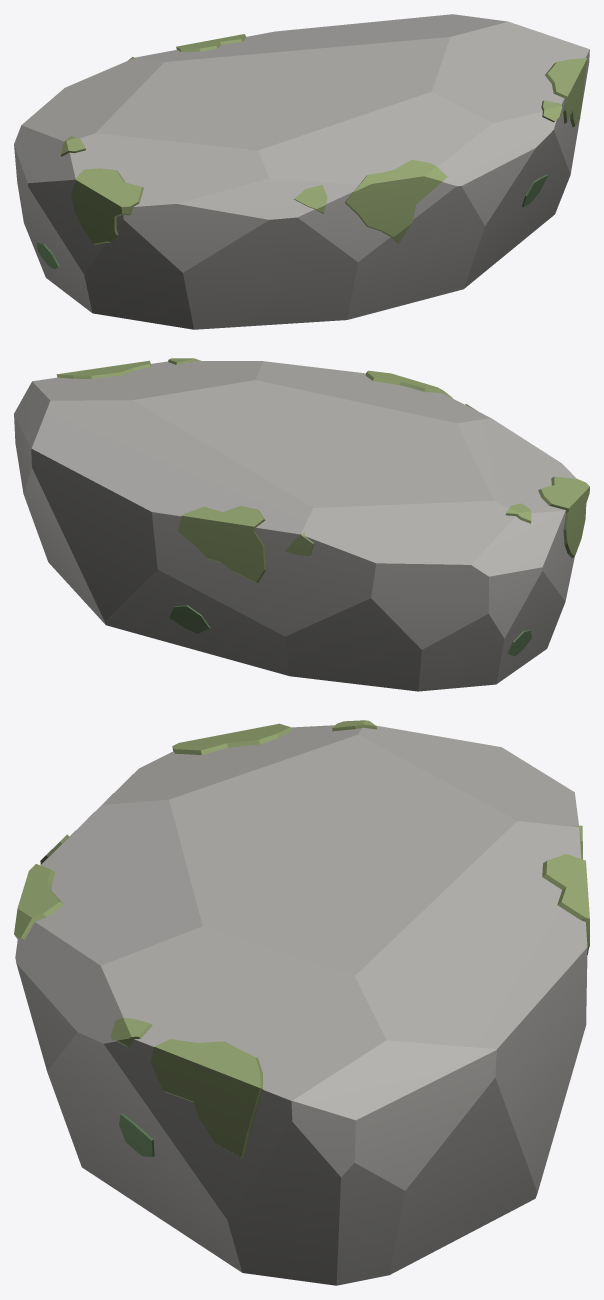
File: boulder.glb
3 views of the same model, one above another, from view 1: azimuth 30°, elevation 25°; view 2: azimuth 150°, elevation 25°; view 3: azimuth 270°, elevation 25° (orthographic). The views are drawn at different scales.
Visible parts, largest first — view 1: boulder.001; view 2: boulder.001; view 3: boulder.001.
Part boxes in pixels (x1,y1,x2,y2): boulder.001: (14,14,589,329); boulder.001: (14,358,589,691); boulder.001: (14,720,589,1285).
Bounding box in the file's own units: 3.08 × 0.924 × 1.94.
